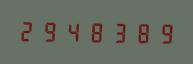eight: (83, 19, 104, 44), (127, 20, 148, 44)
four: (61, 19, 82, 43)
nine: (149, 20, 170, 45), (39, 19, 60, 43)
three: (105, 20, 126, 44)
two: (17, 18, 38, 42)
